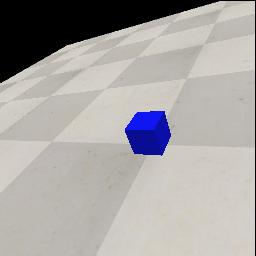box: (125, 111, 171, 156)
